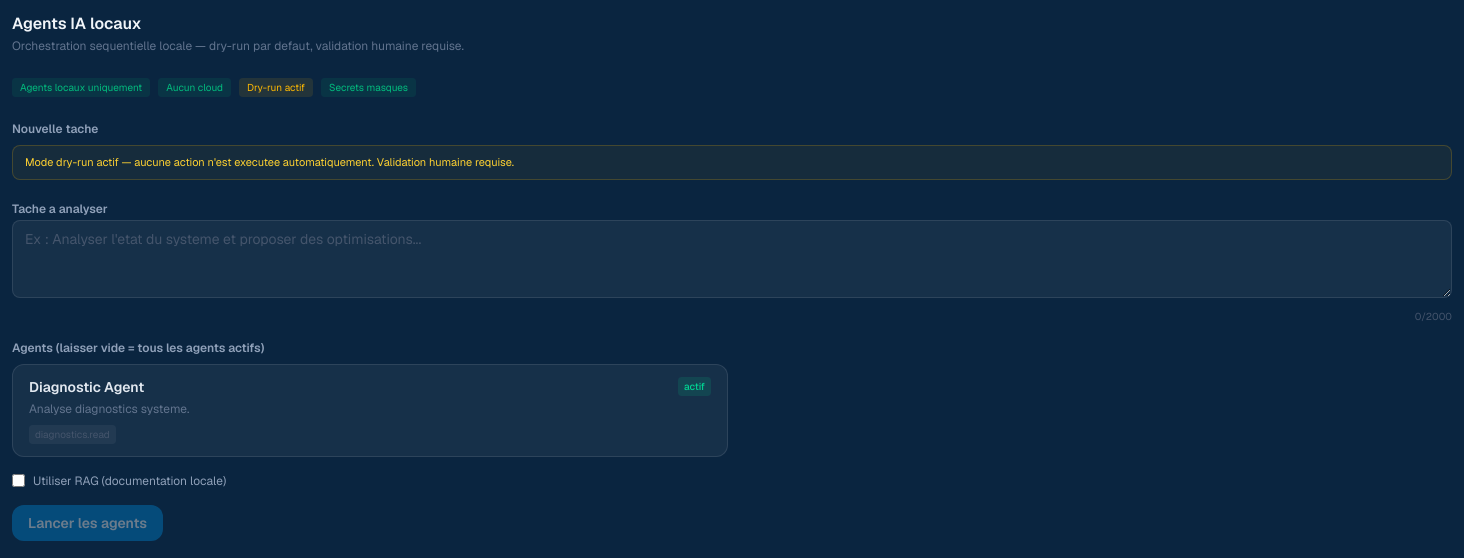
Scenario: AgentsPanel › le bouton Lancer les agents est desactive si la tache est vide
The width and height of the screenshot is (1464, 558).
Expected: the button "Lancer les agents" is disabled, [12,504,163,540]
Type "test" into the text box labelled "Tache a analyser" at (732, 258), box [12,220,1452,298]
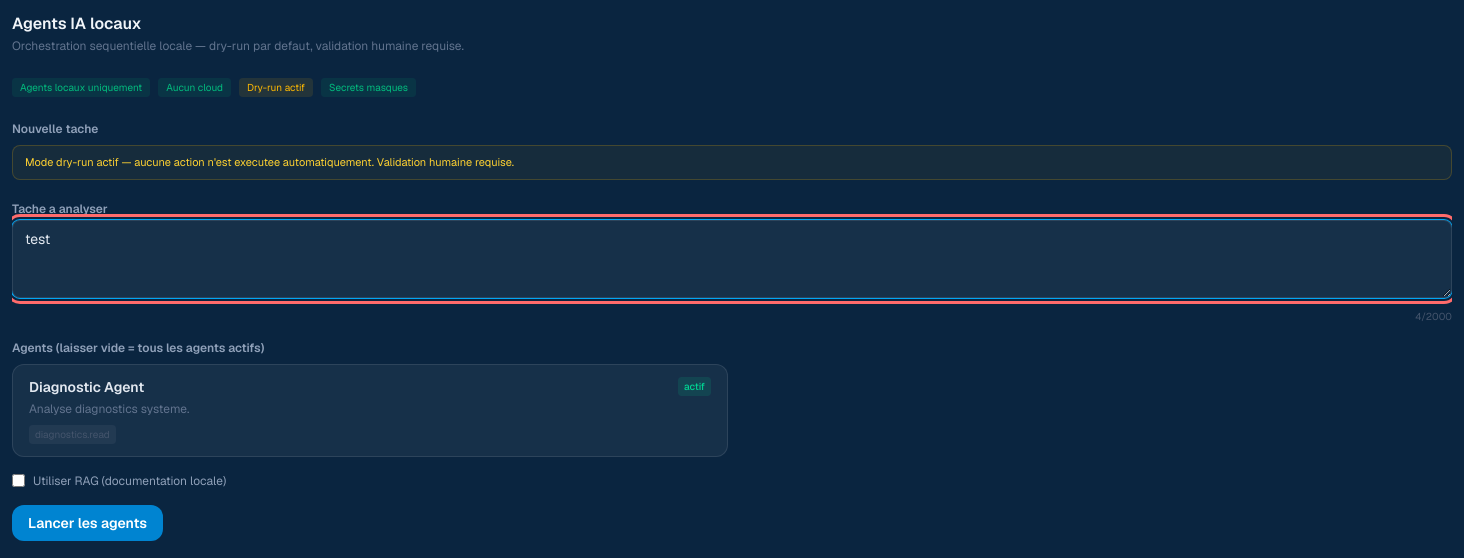
Expected: the button "Lancer les agents" is enabled, [12,504,163,540]
